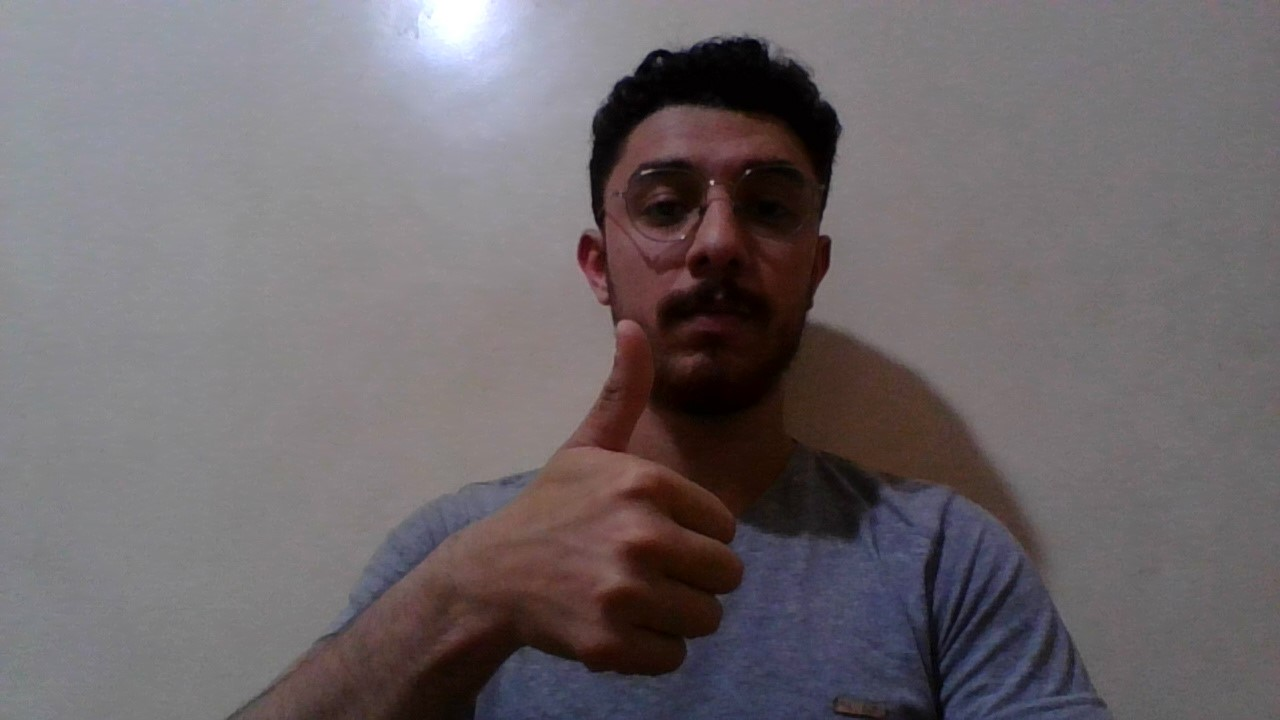Yes: (481, 318, 744, 686)
